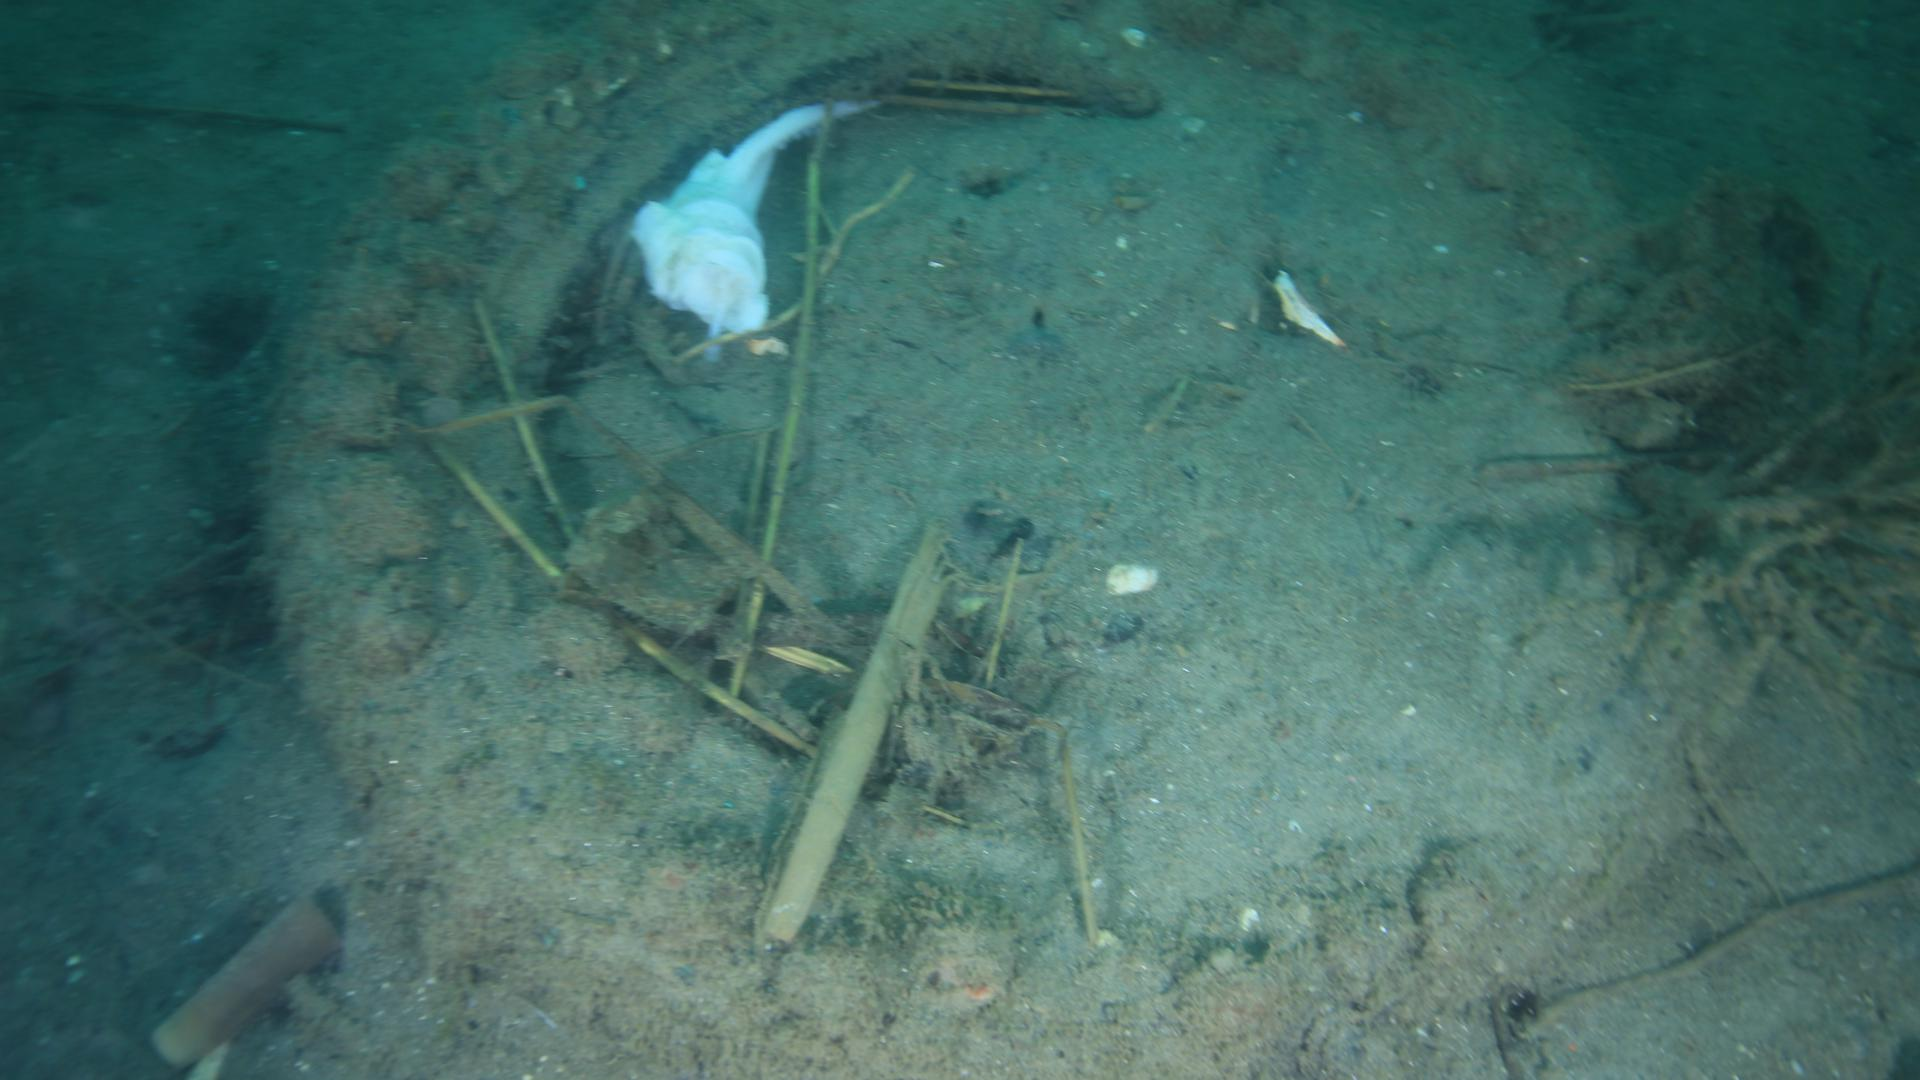tire: (265, 3, 1792, 1080)
